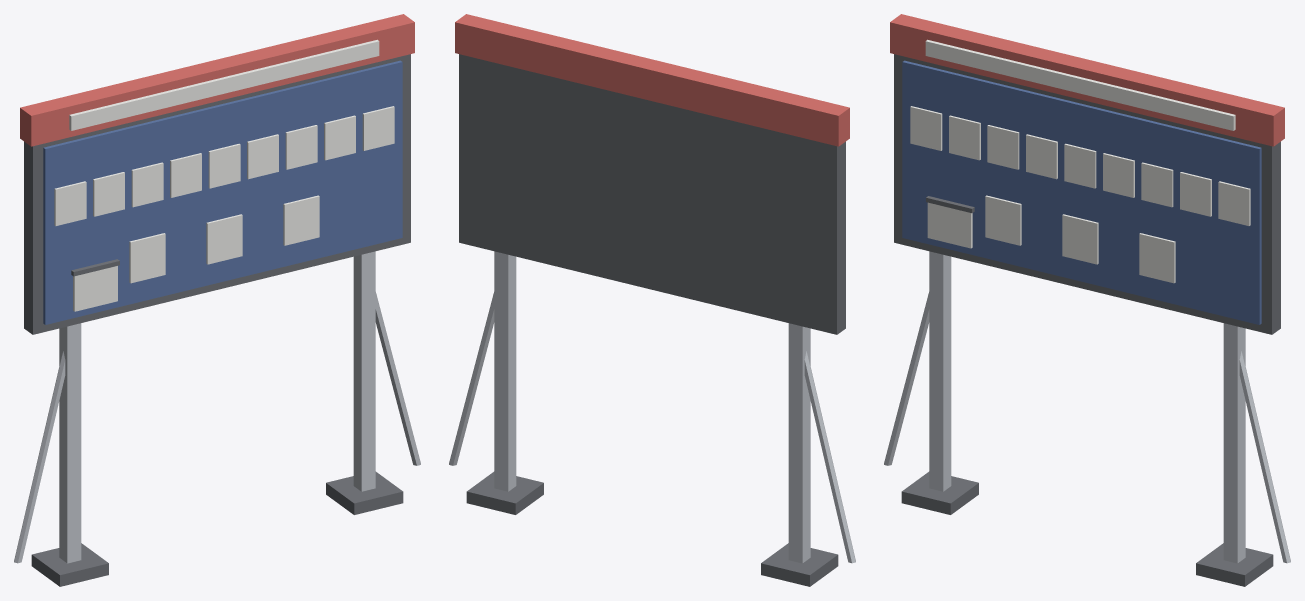
The model's file is baseball-park-and-batting-cages-scoreboard-61655d49__33756.glb.
3 renders of one model, left to right at view 1: azimuth 30°, elevation 25°; view 2: azimuth 150°, elevation 25°; view 3: azimuth 330°, elevation 25°, orthographic.
Parts seen in each view (by area): view 1: scoreboard, flap/white; view 2: scoreboard; view 3: scoreboard, flap/white.
Boxes of the visible parts, box(x1,y1,x2,y2) form: scoreboard: box(14, 14, 420, 586); flap/white: box(73, 266, 117, 311); scoreboard: box(449, 14, 855, 586); scoreboard: box(884, 14, 1290, 586); flap/white: box(927, 202, 972, 248).
Size of the model in its own units: 5.81 by 6.41 by 0.7.
